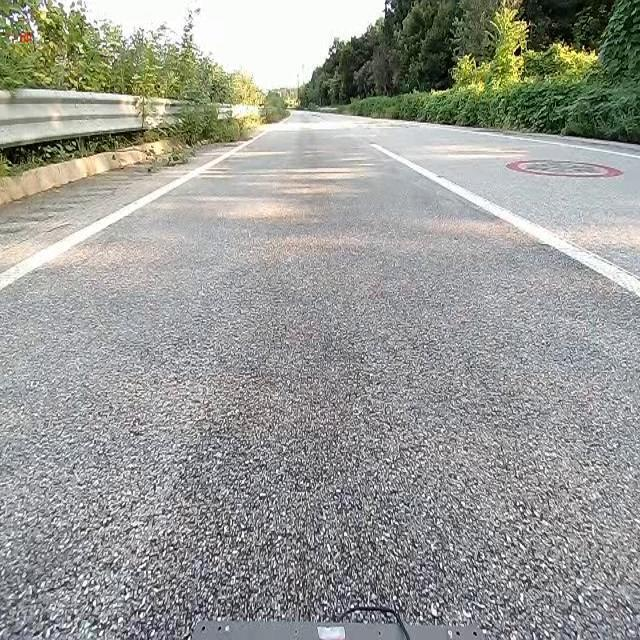Lane: (363, 132, 640, 307), (0, 123, 268, 287), (0, 130, 267, 290), (371, 143, 639, 297)
